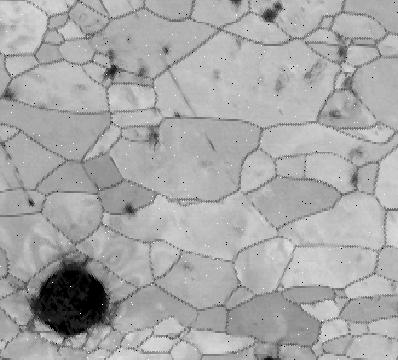good_void: (23, 252, 121, 338), (338, 73, 362, 110), (255, 0, 283, 31), (300, 62, 329, 88), (101, 44, 116, 90), (144, 125, 168, 148), (343, 165, 364, 188), (273, 66, 292, 91), (322, 108, 347, 124), (135, 58, 151, 82), (20, 186, 37, 208), (116, 203, 140, 218), (0, 86, 18, 105), (181, 259, 195, 281), (204, 134, 216, 153), (338, 45, 350, 63), (212, 67, 223, 80), (169, 112, 180, 124), (234, 34, 243, 48), (228, 0, 243, 8), (163, 44, 168, 57)
